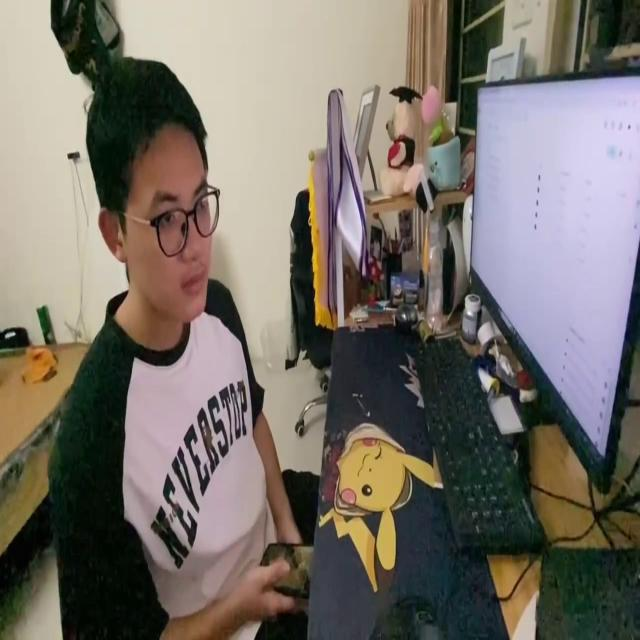laptop: (466, 51, 640, 499)
phone: (258, 539, 316, 603)
student: (48, 53, 320, 640)
